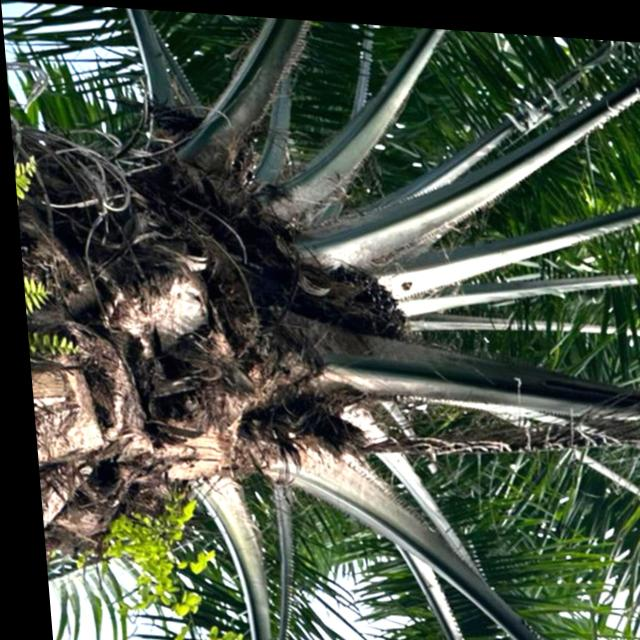almost: (311, 256, 408, 343)
